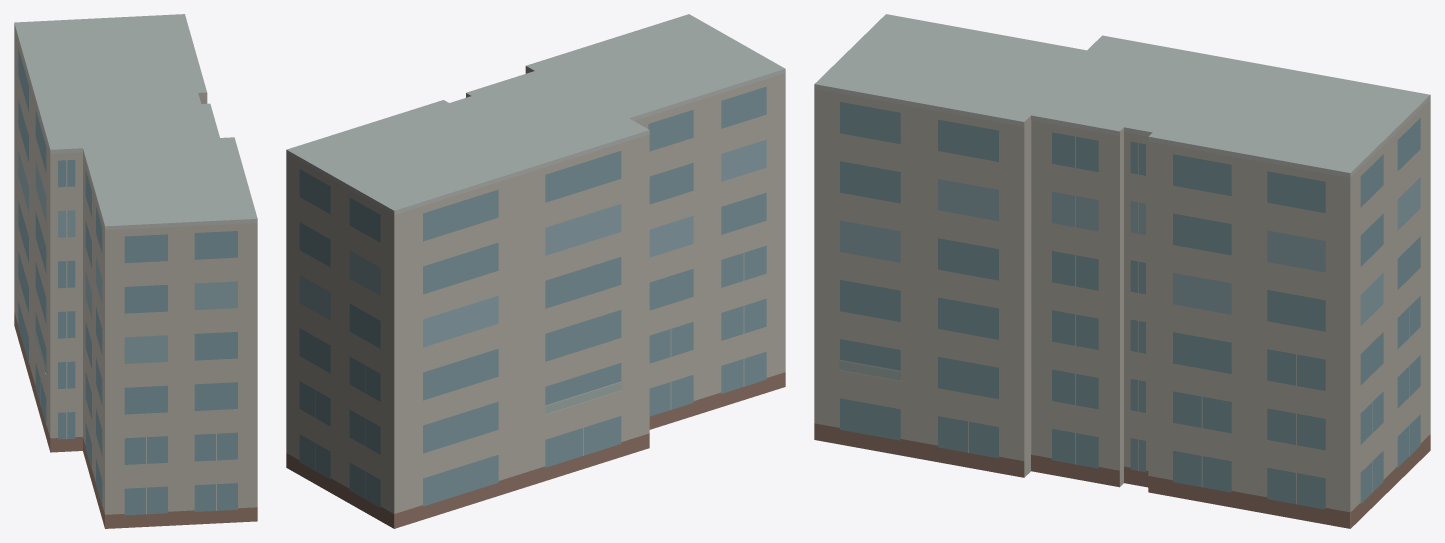
Rendered from survey-upis-32965800.glb.
3 views of the same model, side by side, from view 1: azimuth 30°, elevation 25°; view 2: azimuth 150°, elevation 25°; view 3: azimuth 270°, elevation 25° (orthographic). The views are drawn at different scales.
Parts seen in each view (by area): view 1: survey-upis-32965800.tmp; view 2: survey-upis-32965800.tmp; view 3: survey-upis-32965800.tmp.
Boxes of the visible parts, <box> form: survey-upis-32965800.tmp: <box>14,14,257,528</box>; survey-upis-32965800.tmp: <box>286,14,785,528</box>; survey-upis-32965800.tmp: <box>814,14,1430,528</box>.
Size of the model in its own units: 17.66 by 18.4 by 28.89.
